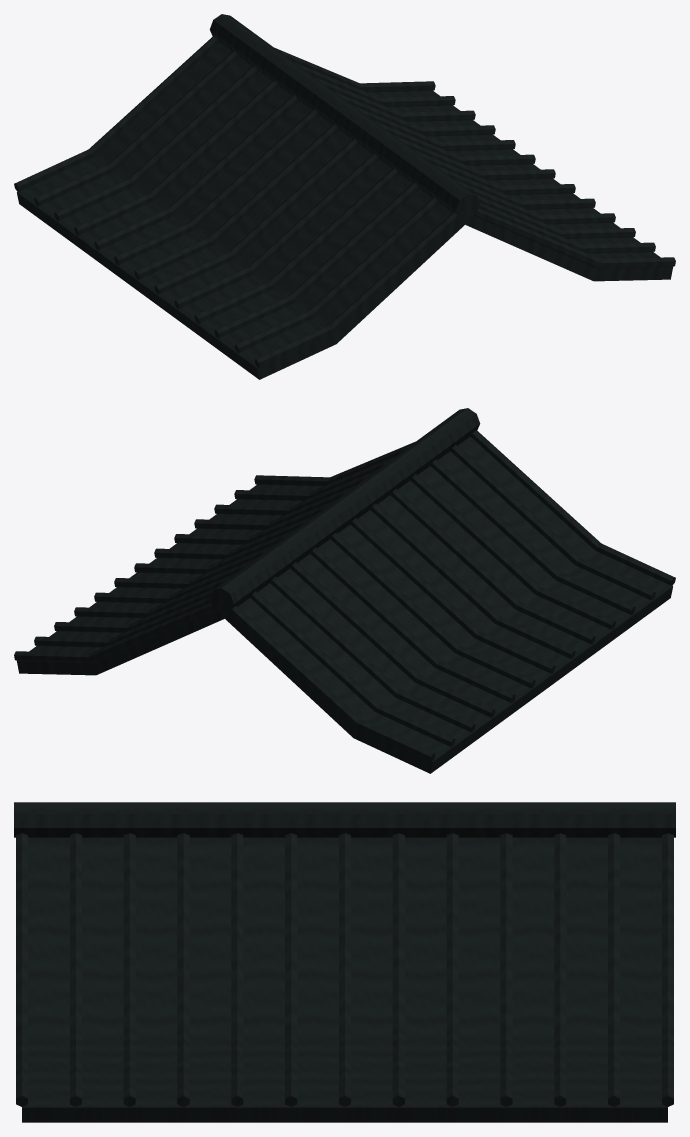
The model's file is module_roof_giwa_2m.glb.
The picture shows the model from 3 angles, top to bottom: view 1: azimuth 30°, elevation 25°; view 2: azimuth 150°, elevation 25°; view 3: azimuth 270°, elevation 25°; orthographic projection. The views are drawn at different scales.
Parts seen in each view (by area): view 1: giwa_roof, giwa_roof_ridge, giwa_roof_tile_rib_00, giwa_roof_tile_rib_01, giwa_roof_tile_rib_02, giwa_roof_tile_rib_07, giwa_roof_tile_rib_10, giwa_roof_tile_rib_06, giwa_roof_tile_rib_09, giwa_roof_tile_rib_12, giwa_roof_tile_rib_03, giwa_roof_tile_rib_04 (+3 smaller); view 2: giwa_roof, giwa_roof_ridge, giwa_roof_tile_rib_12, giwa_roof_tile_rib_11, giwa_roof_tile_rib_10, giwa_roof_tile_rib_05, giwa_roof_tile_rib_02, giwa_roof_tile_rib_03, giwa_roof_tile_rib_00, giwa_roof_tile_rib_06, giwa_roof_tile_rib_08, giwa_roof_tile_rib_09 (+3 smaller); view 3: giwa_roof, giwa_roof_ridge, giwa_roof_tile_rib_03, giwa_roof_tile_rib_09, giwa_roof_tile_rib_04, giwa_roof_tile_rib_02, giwa_roof_tile_rib_08, giwa_roof_tile_rib_10, giwa_roof_tile_rib_05, giwa_roof_tile_rib_07, giwa_roof_tile_rib_00, giwa_roof_tile_rib_01 (+3 smaller).
Boxes of the visible parts, x1,y1,x2,y2 form: giwa_roof: (17, 42, 672, 379); giwa_roof_ridge: (209, 14, 479, 219); giwa_roof_tile_rib_00: (254, 208, 675, 367); giwa_roof_tile_rib_01: (234, 197, 655, 353); giwa_roof_tile_rib_02: (214, 182, 635, 338); giwa_roof_tile_rib_07: (114, 109, 535, 265); giwa_roof_tile_rib_10: (54, 65, 475, 220); giwa_roof_tile_rib_06: (134, 124, 555, 279); giwa_roof_tile_rib_09: (74, 80, 495, 235); giwa_roof_tile_rib_12: (14, 36, 435, 191); giwa_roof_tile_rib_03: (194, 168, 615, 323); giwa_roof_tile_rib_04: (174, 153, 595, 309); giwa_roof: (17, 436, 672, 773); giwa_roof_ridge: (210, 408, 480, 613); giwa_roof_tile_rib_12: (14, 602, 435, 761); giwa_roof_tile_rib_11: (34, 591, 455, 747); giwa_roof_tile_rib_10: (54, 576, 475, 732); giwa_roof_tile_rib_05: (154, 503, 575, 659); giwa_roof_tile_rib_02: (214, 459, 635, 614); giwa_roof_tile_rib_03: (194, 474, 615, 629); giwa_roof_tile_rib_00: (254, 430, 675, 585); giwa_roof_tile_rib_06: (134, 518, 555, 673); giwa_roof_tile_rib_08: (94, 547, 515, 703); giwa_roof_tile_rib_09: (74, 562, 495, 717); giwa_roof: (22, 837, 667, 1122); giwa_roof_ridge: (14, 802, 675, 837); giwa_roof_tile_rib_03: (177, 833, 189, 1106); giwa_roof_tile_rib_09: (500, 833, 512, 1106); giwa_roof_tile_rib_04: (231, 833, 243, 1106); giwa_roof_tile_rib_02: (123, 833, 135, 1106); giwa_roof_tile_rib_08: (446, 833, 458, 1106); giwa_roof_tile_rib_10: (554, 833, 566, 1106); giwa_roof_tile_rib_05: (285, 833, 297, 1106); giwa_roof_tile_rib_07: (392, 833, 404, 1106); giwa_roof_tile_rib_00: (16, 833, 27, 1106); giwa_roof_tile_rib_01: (70, 833, 81, 1106).
Size of the model in its own units: 2.41 by 0.7585 by 2.46.
Materials: 1 (1 with a texture image).
